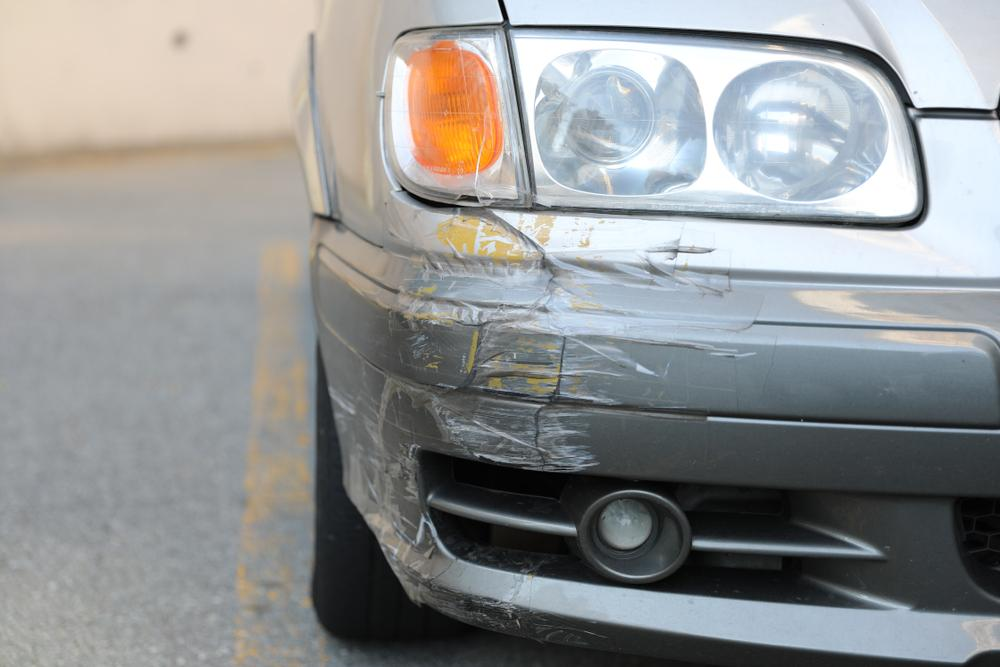lamp broken: (382, 25, 535, 208)
scratch: (337, 218, 676, 631)
